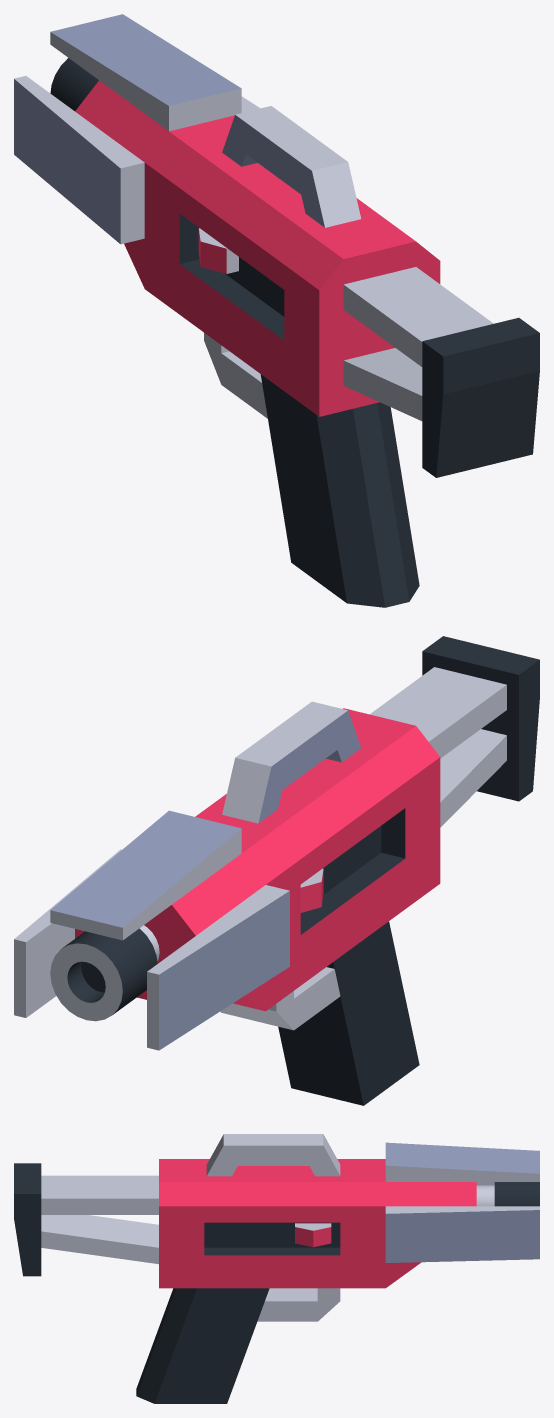
The model's file is blasterN.dae.
The picture shows the model from 3 angles, top to bottom: view 1: azimuth 30°, elevation 25°; view 2: azimuth 150°, elevation 25°; view 3: azimuth 270°, elevation 25°; orthographic projection. The views are drawn at different scales.
Parts seen in each view (by area): view 1: blasterN; view 2: blasterN; view 3: blasterN.
Part boxes in pixels (<box>): blasterN: <box>14,14,539,607</box>; blasterN: <box>14,636,539,1105</box>; blasterN: <box>14,1134,539,1403</box>.
Bounding box in the file's own units: 0.14 × 0.3075 × 0.58.
